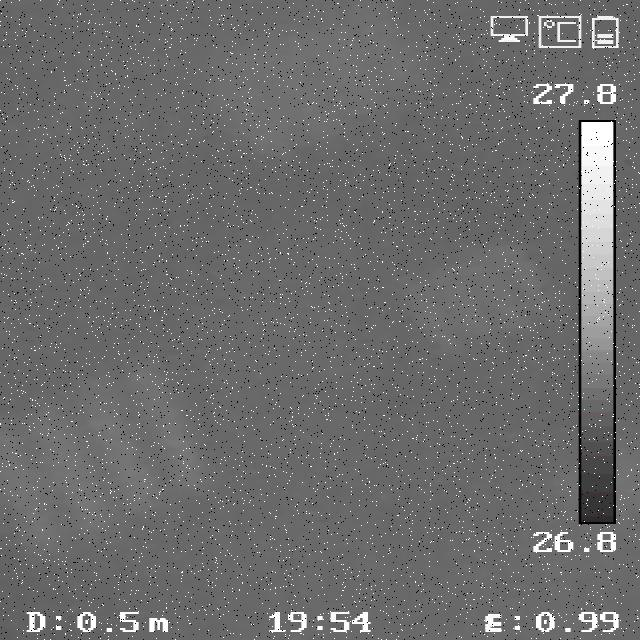Indistinguishable 4-bar target: (221, 21, 420, 125), (400, 253, 549, 341)
threshold 4-bar target: (5, 371, 191, 546)
